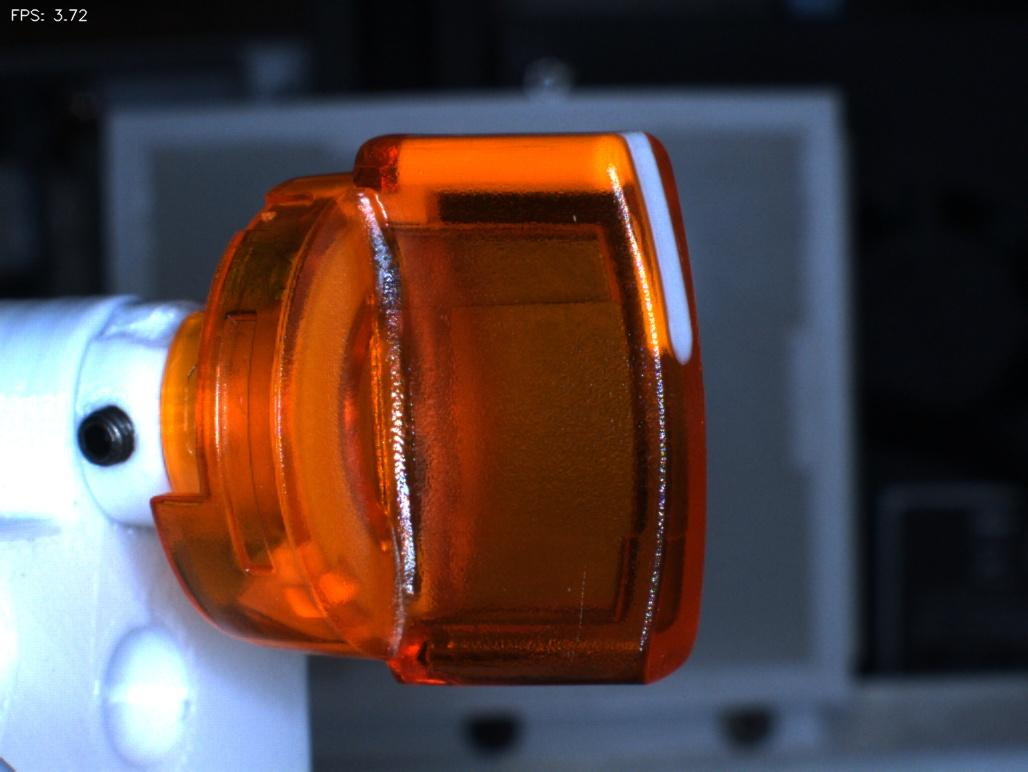Givrage: (547, 542, 616, 665)
